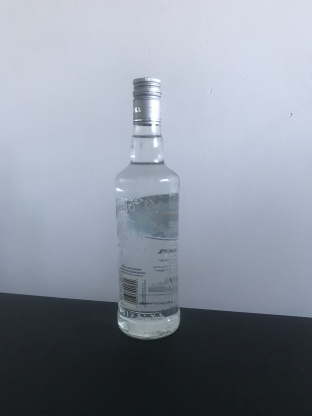nakretka: (131, 76, 162, 126)
